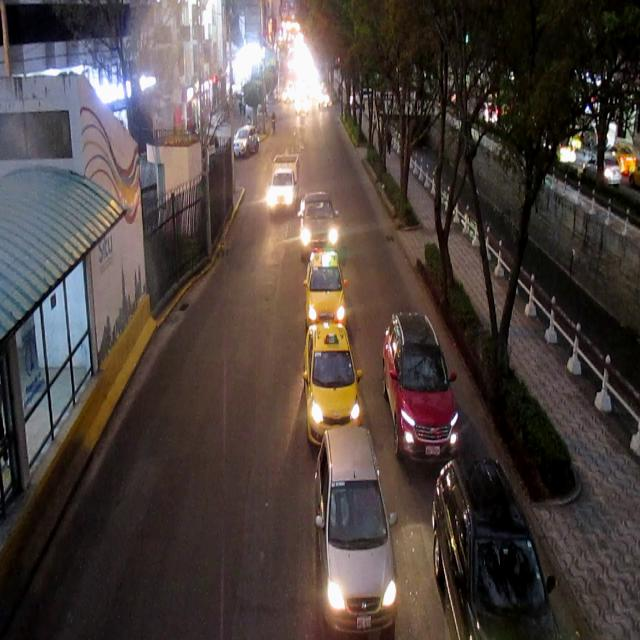CMT: (268, 152, 300, 217)
SED: (305, 322, 357, 437), (307, 255, 345, 327)
SUV: (432, 458, 564, 638), (330, 432, 399, 640), (384, 310, 459, 456), (235, 127, 259, 158)
